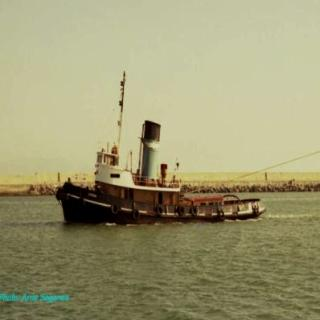Tug Boat: (59, 105, 267, 220)
